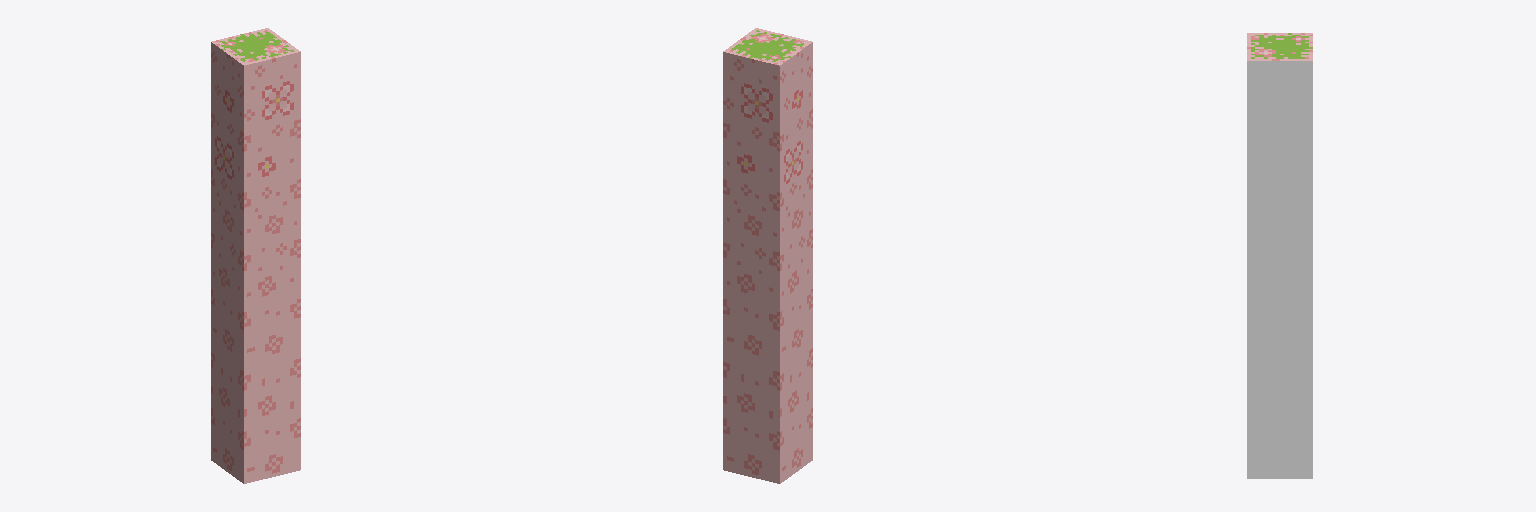
3 views of the same model, side by side, from view 1: azimuth 30°, elevation 25°; view 2: azimuth 150°, elevation 25°; view 3: azimuth 270°, elevation 25° (orthographic).
Parts seen in each view (by area): view 1: Untitled; view 2: Untitled; view 3: Untitled.
Part boxes in pixels (x1,y1,x2,y2): Untitled: (211, 28, 300, 483); Untitled: (723, 28, 812, 483); Untitled: (1247, 33, 1312, 478).
Bounding box in the file's own units: 1.6 × 11.2 × 1.6.
1 materials, 1 textured.